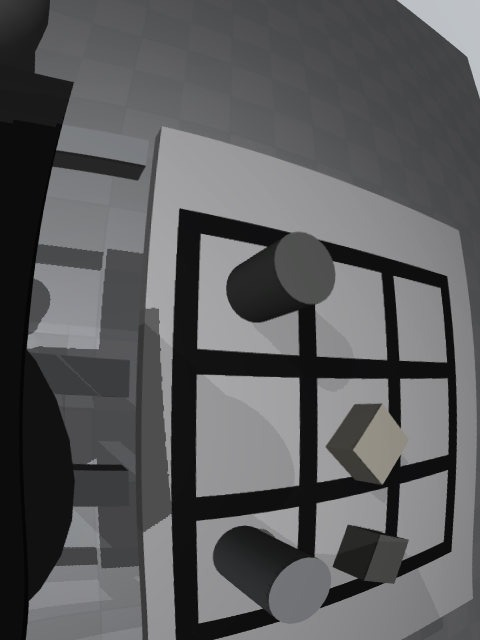can: (213, 526, 331, 624)
cube: (333, 525, 409, 584)
cylinder: (226, 232, 336, 322)
foam: (326, 404, 409, 485)
